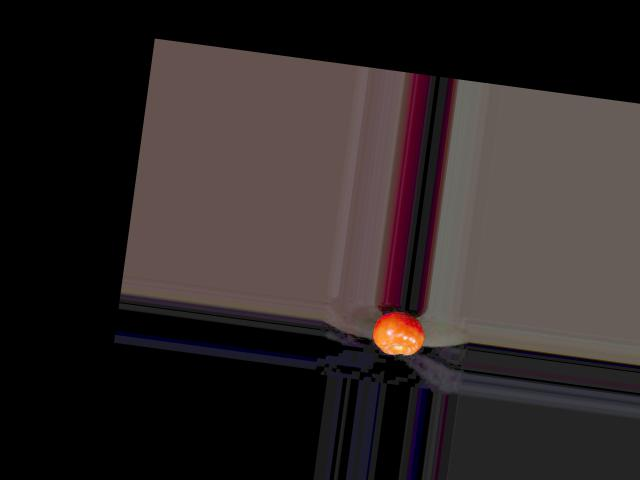tomato: (369, 308, 427, 358)
